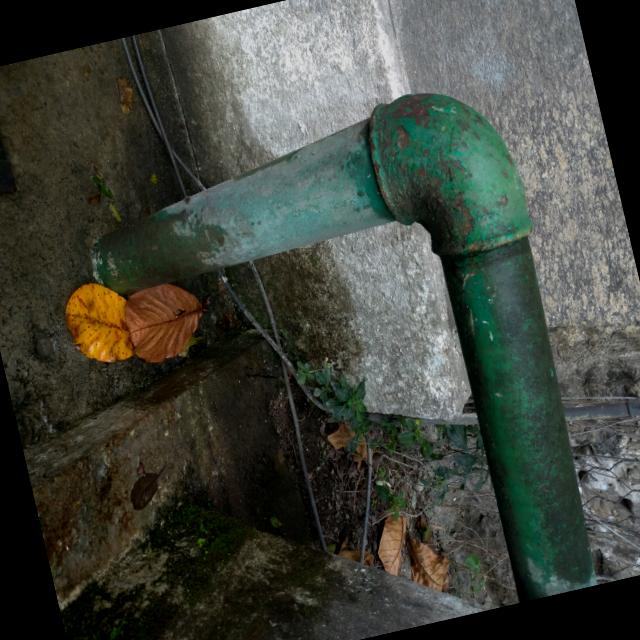gas: (66, 74, 536, 340), (400, 69, 618, 603)
